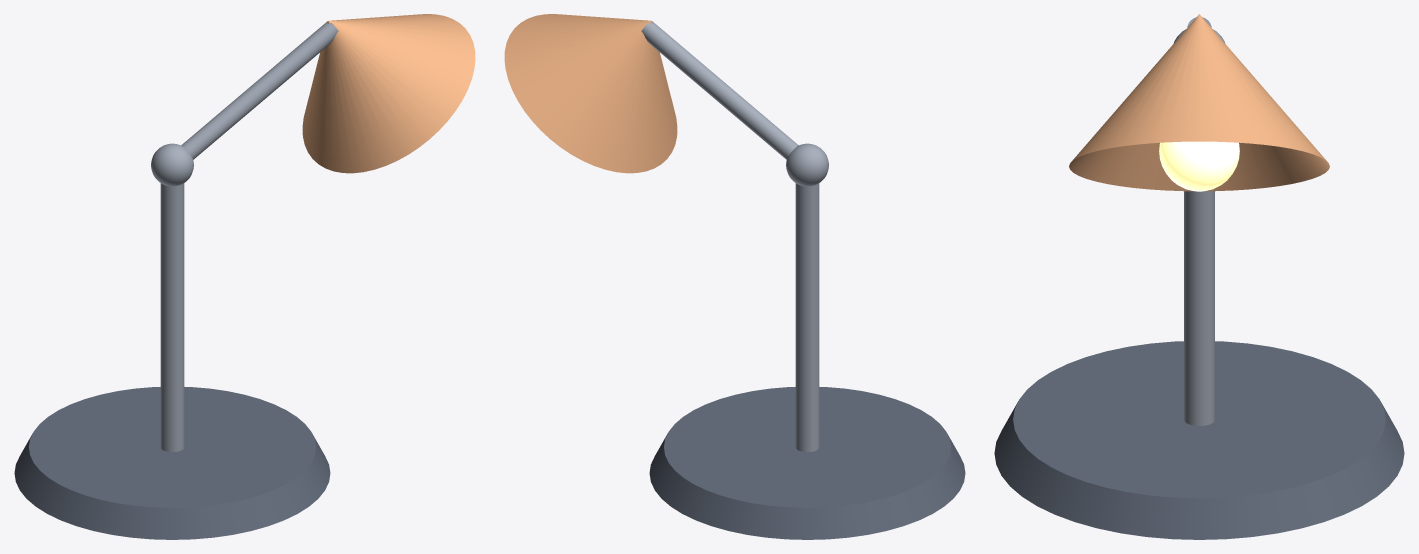
The model's file is luminaria.glb.
The picture shows the model from 3 angles, left to right: view 1: azimuth 30°, elevation 25°; view 2: azimuth 150°, elevation 25°; view 3: azimuth 270°, elevation 25°; orthographic projection. The views are drawn at different scales.
Visible parts, largest first — view 1: Base, Abajur, Haste, Braco, Articulacao; view 2: Base, Abajur, Haste, Braco, Articulacao; view 3: Base, Abajur, Haste, Lampada.
Boxes of the visible parts, box(x1,y1,x2,y2) form: Base: box(14, 387, 330, 539); Abajur: box(302, 14, 475, 173); Haste: box(160, 183, 184, 452); Braco: box(181, 21, 338, 159); Articulacao: box(151, 143, 193, 186); Base: box(649, 387, 965, 539); Abajur: box(504, 14, 677, 173); Haste: box(795, 183, 819, 452); Braco: box(641, 21, 798, 159); Articulacao: box(786, 143, 828, 186); Base: box(994, 341, 1404, 539); Abajur: box(1069, 14, 1329, 191); Haste: box(1184, 191, 1214, 425); Lampada: box(1159, 141, 1239, 191).
Bounding box in the file's own units: 2.04 × 1.91 × 1.32.
